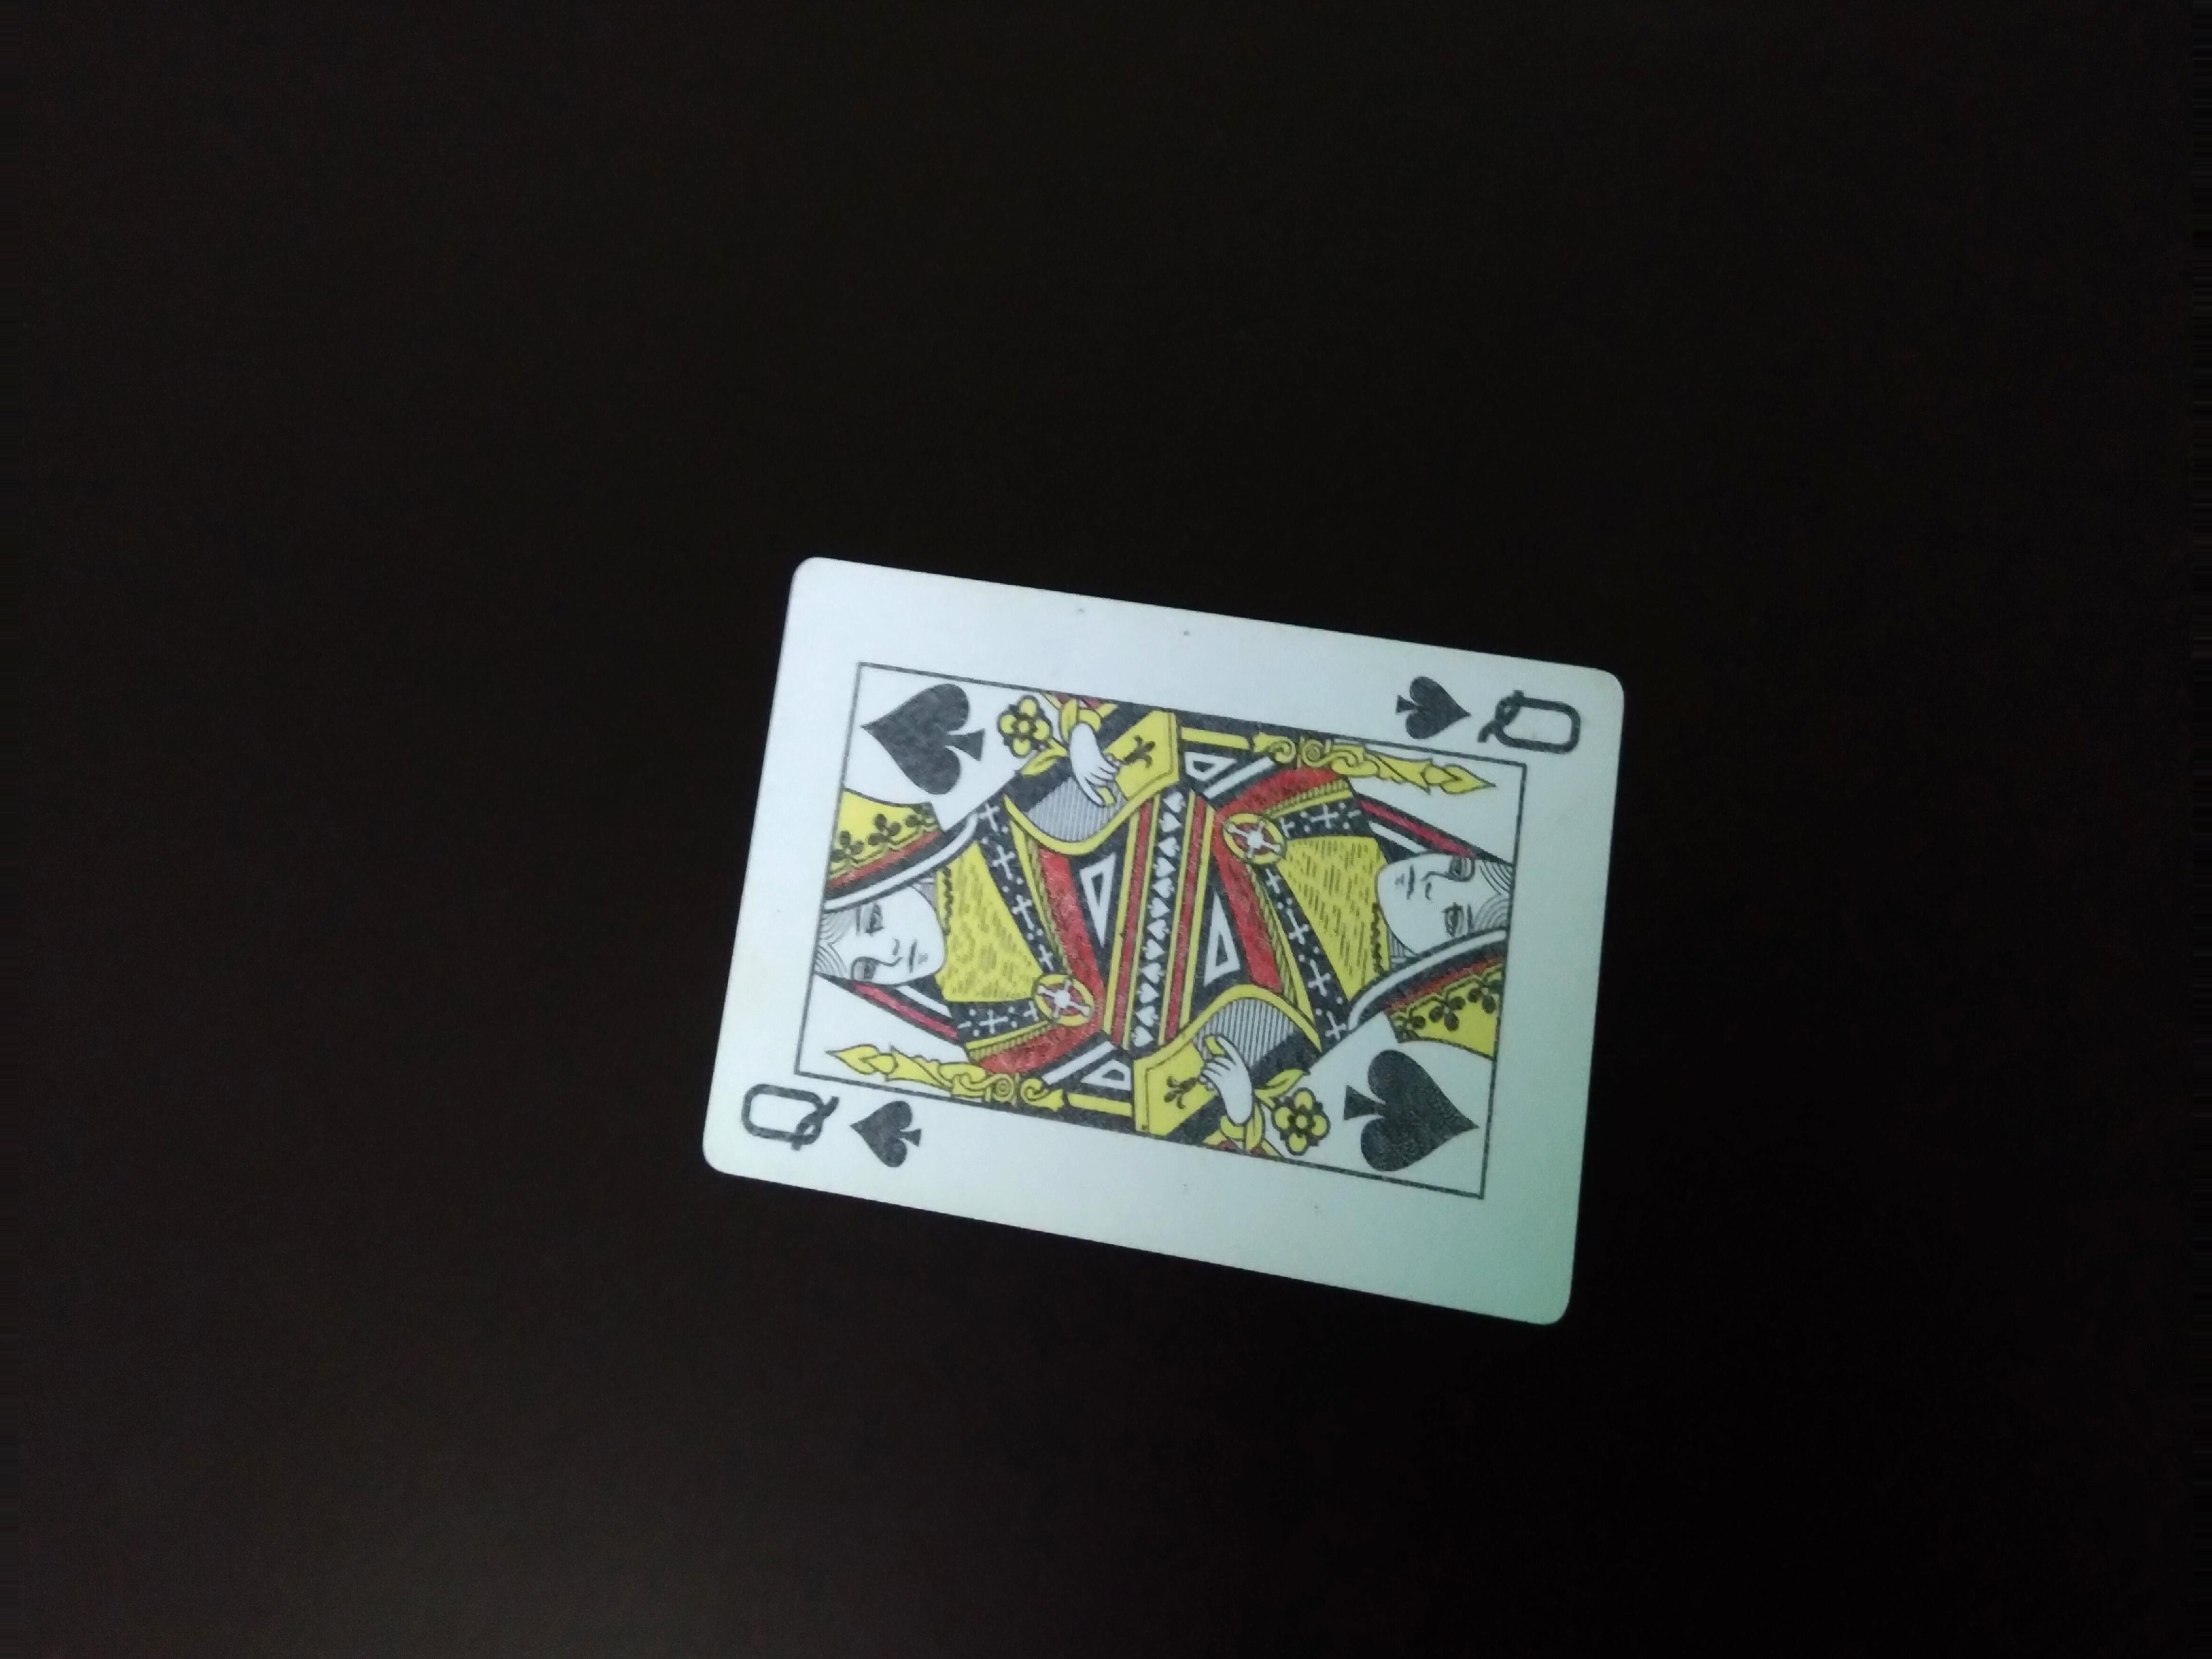QS: (1379, 659, 1592, 772)
